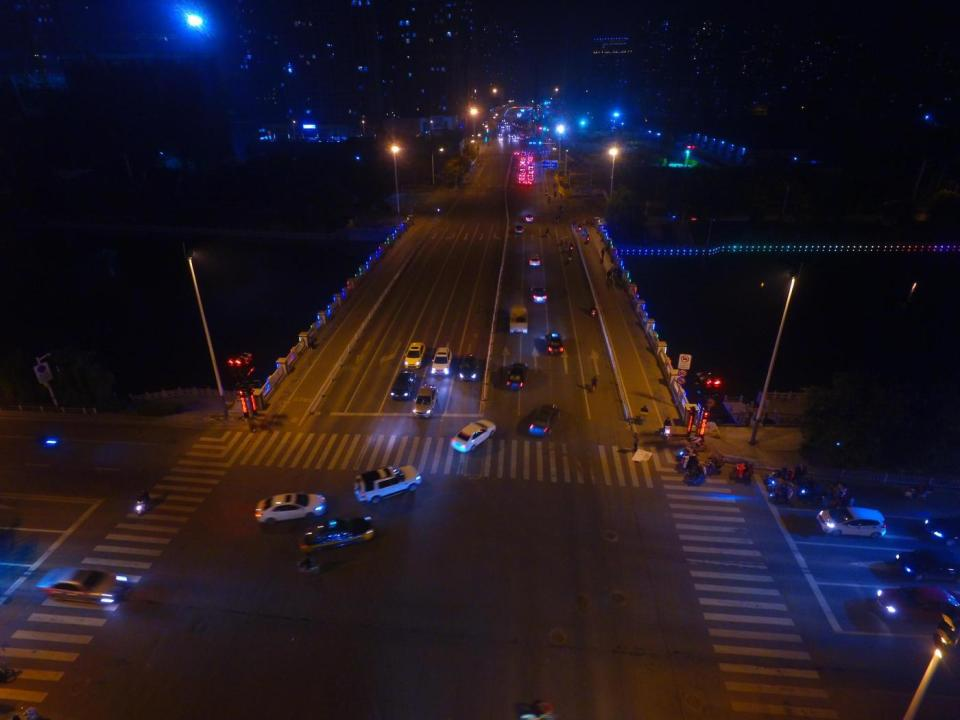car: (35, 566, 128, 606), (298, 516, 374, 555), (876, 585, 960, 620), (254, 492, 328, 528), (352, 466, 421, 504), (894, 546, 960, 582), (816, 507, 886, 538), (448, 417, 496, 452), (528, 404, 558, 436), (412, 383, 439, 418), (391, 369, 416, 400), (431, 347, 453, 376), (506, 363, 528, 390), (459, 353, 479, 381), (404, 342, 425, 368), (544, 330, 564, 354), (530, 284, 548, 304), (528, 252, 541, 268), (524, 212, 535, 223), (514, 223, 523, 233)
truck: (508, 302, 528, 335)
